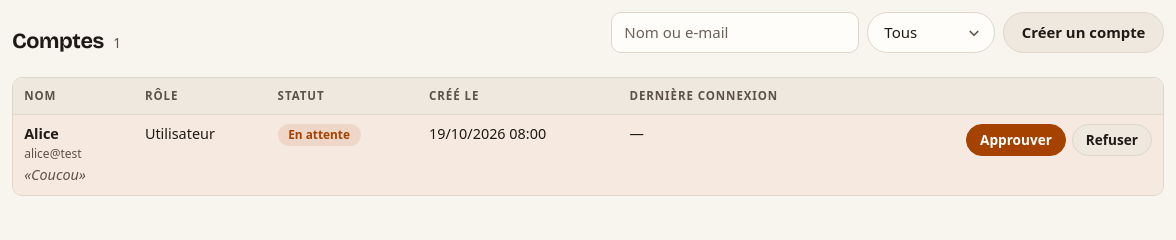
Test: admin : comptes › approuver une demande envoie status=active
expect the text "Alice" is shown: met, box x1=24 y1=124 x2=59 y2=143
expect the text "Coucou" is shown: met, box x1=24 y1=166 x2=122 y2=186
Click the button "Approuver" at point(1016, 140), box x1=966 y1=124 x2=1066 y2=156
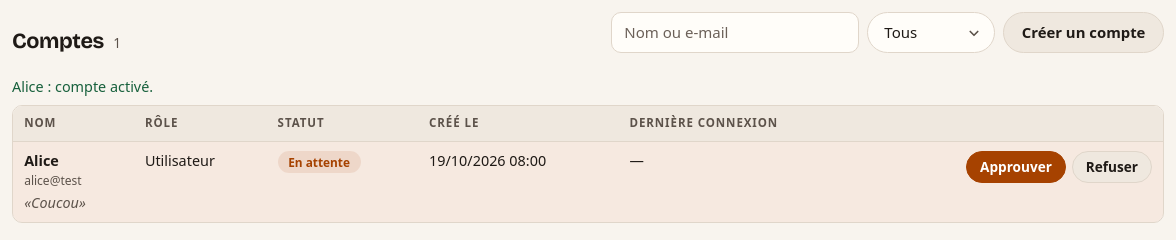
expect the text "Alice : compte activé." is shown: met, box x1=12 y1=77 x2=153 y2=96
